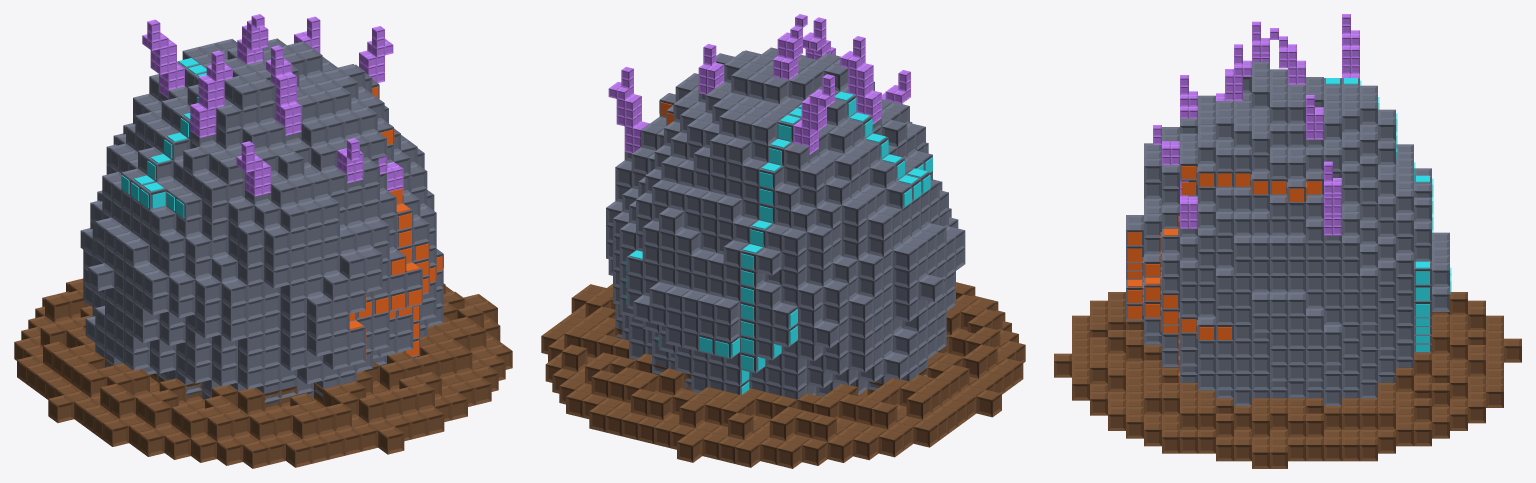
Rendered from Geoda_Jefe.fbx.
3 views of the same model, side by side, from view 1: azimuth 30°, elevation 25°; view 2: azimuth 150°, elevation 25°; view 3: azimuth 270°, elevation 25° (orthographic). The views are drawn at different scales.
Visible parts, largest first — view 1: Roca, Base, Cristales, Grietas, Grietas2; view 2: Roca, Base, Cristales, Grietas2; view 3: Roca, Base, Cristales, Grietas, Grietas2.
Part boxes in pixels (x1=…): Roca: x1=80, y1=38, x2=443, y2=405; Base: x1=14, y1=278, x2=512, y2=468; Cristales: x1=142, y1=14, x2=403, y2=196; Grietas: x1=349, y1=85, x2=443, y2=358; Grietas2: x1=121, y1=58, x2=206, y2=218; Roca: x1=606, y1=47, x2=965, y2=399; Base: x1=541, y1=282, x2=1025, y2=468; Cristales: x1=608, y1=14, x2=910, y2=154; Grietas2: x1=626, y1=91, x2=932, y2=394; Roca: x1=1126, y1=62, x2=1449, y2=405; Base: x1=1054, y1=292, x2=1521, y2=468; Cristales: x1=1153, y1=14, x2=1359, y2=235; Grietas: x1=1128, y1=166, x2=1321, y2=382; Grietas2: x1=1326, y1=78, x2=1451, y2=351.
Size of the model in its own units: 4.85 by 3.83 by 4.85.
